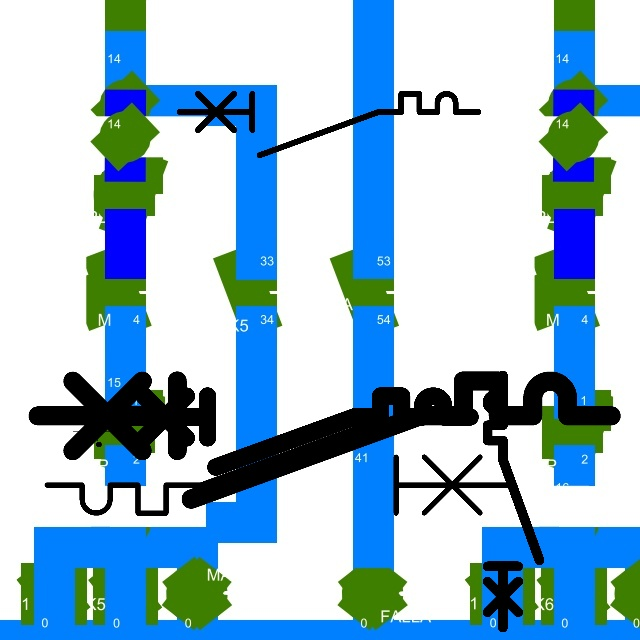interruptor_termomagnetico: (23, 366, 626, 513), (35, 406, 520, 525), (114, 387, 479, 476), (172, 86, 486, 163), (481, 369, 546, 634)
